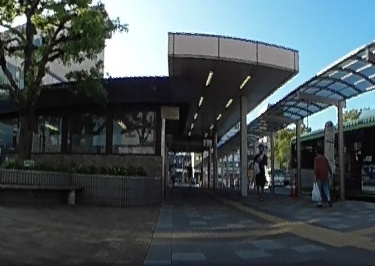person: (312, 144, 334, 205), (249, 142, 268, 192)
